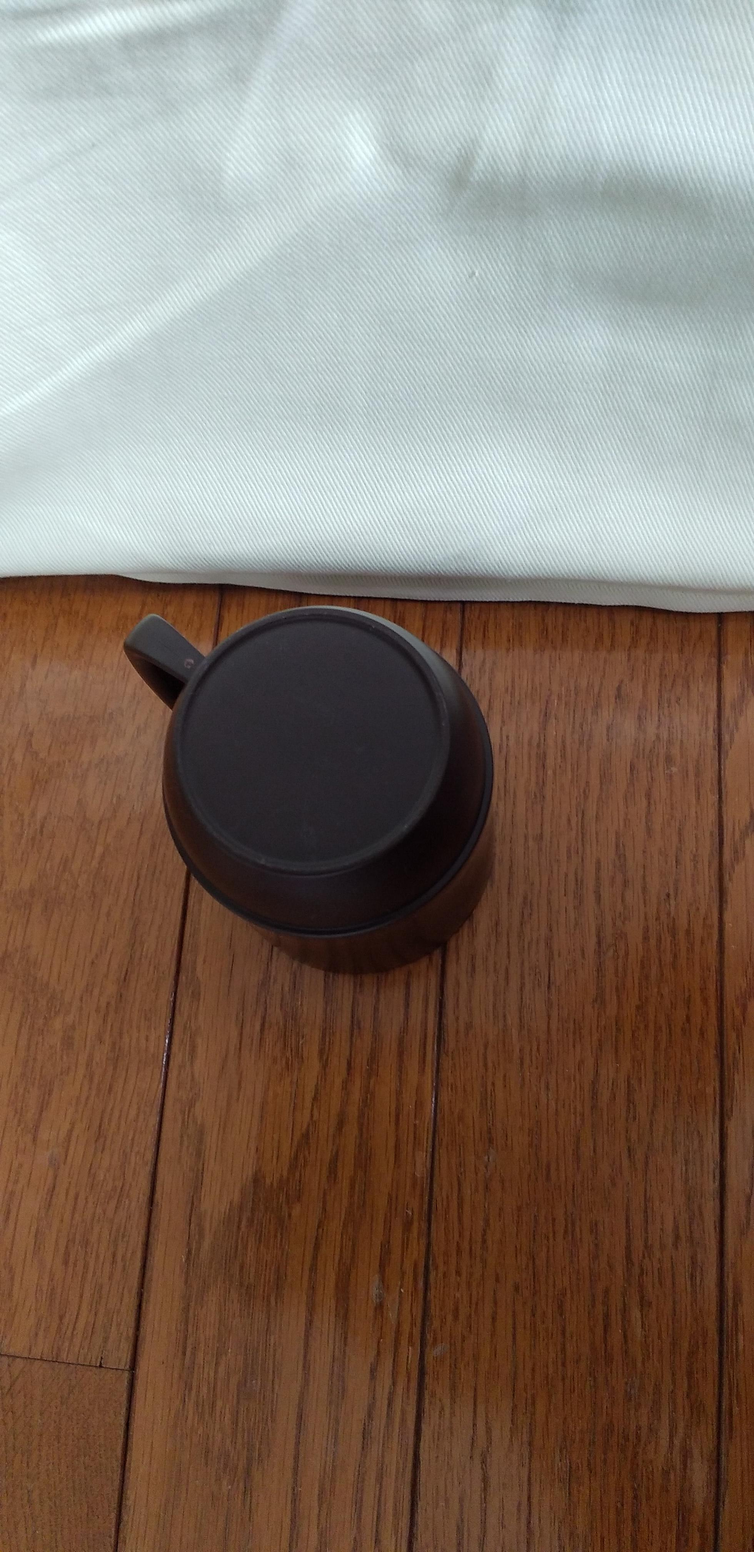mug-real100-3d100: (124, 605, 493, 973)
